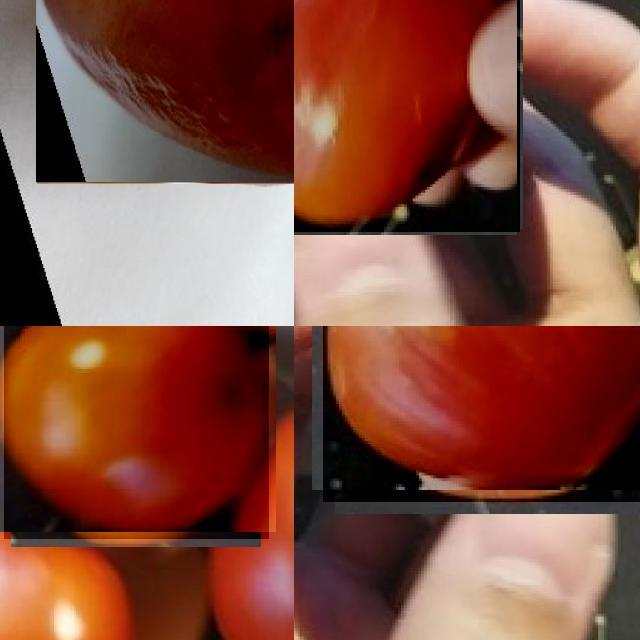Fresh Tomato: (4, 326, 269, 539), (217, 395, 294, 640), (0, 498, 131, 640)
Rotten Tomato: (323, 326, 640, 502), (294, 0, 519, 232), (35, 0, 294, 183)
